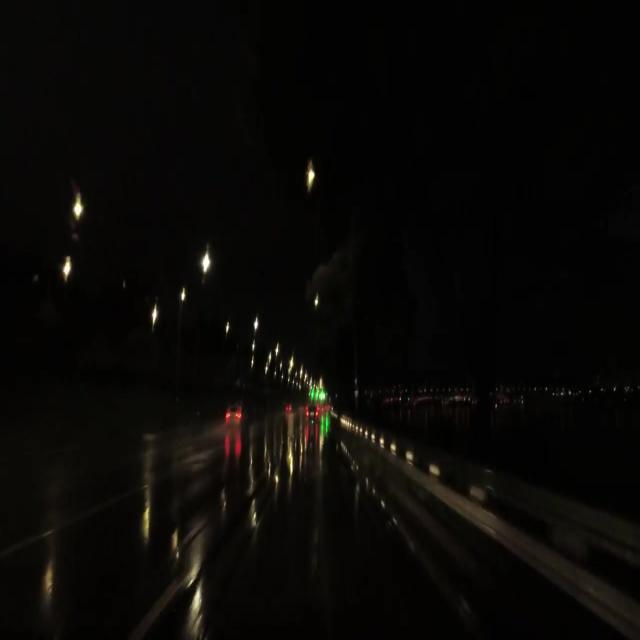Car: (222, 402, 247, 428)
